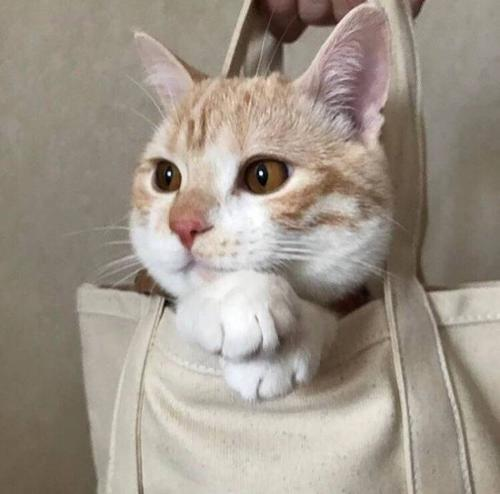cat: (105, 32, 450, 302)
